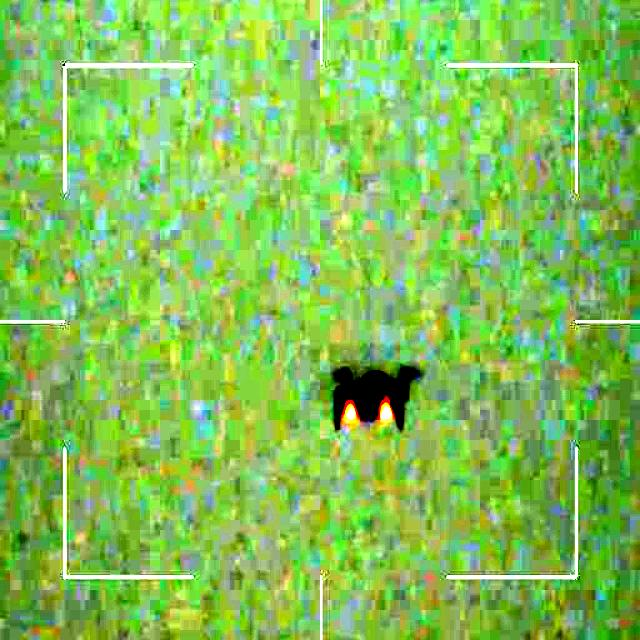bird: (326, 362, 421, 430)
